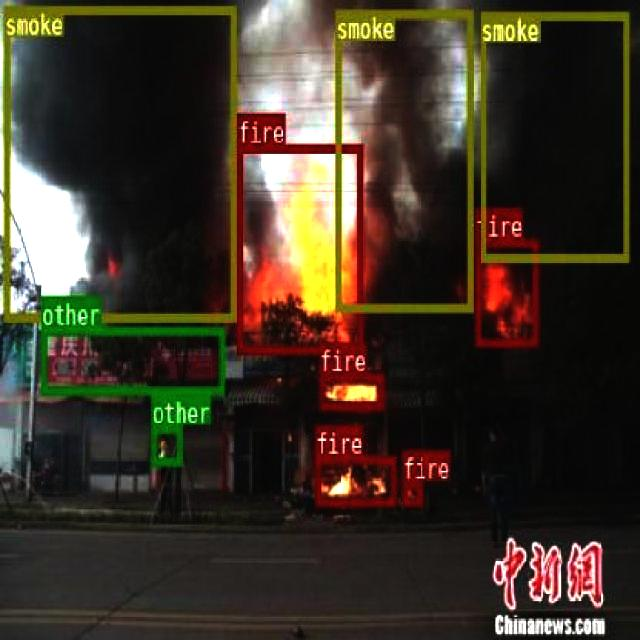fire: (236, 143, 361, 352), (474, 237, 537, 346), (314, 456, 396, 504), (318, 372, 382, 410), (402, 480, 422, 505)
smoke: (3, 5, 235, 321), (334, 8, 472, 310), (479, 10, 628, 261)
